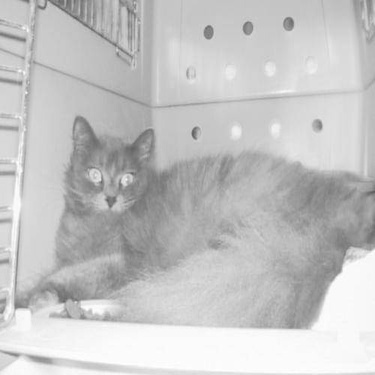cat: (1, 76, 372, 346)
